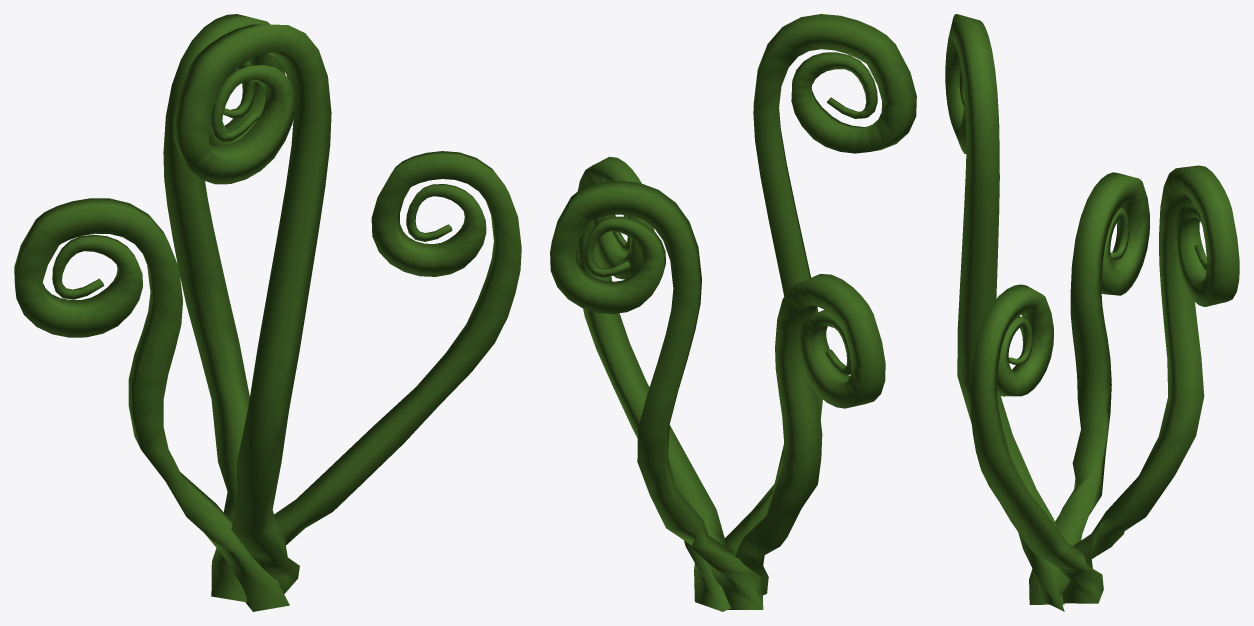
File: Roots_Remake_C.glb
3 renders of one model, left to right at view 1: azimuth 30°, elevation 25°; view 2: azimuth 150°, elevation 25°; view 3: azimuth 270°, elevation 25°, orthographic. The views are drawn at different scales.
Parts seen in each view (by area): view 1: Roots_Remake_C; view 2: Roots_Remake_C; view 3: Roots_Remake_C.
Part boxes in pixels (x1,y1,x2,y2): Roots_Remake_C: [14, 14, 521, 611]; Roots_Remake_C: [550, 14, 916, 611]; Roots_Remake_C: [945, 14, 1239, 611].
Bounding box in the file's own units: 2.12 × 2.98 × 1.44.
